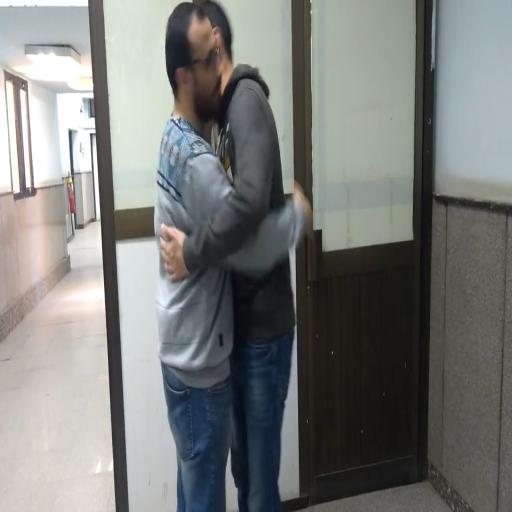nao-violencia: (142, 0, 316, 512)
